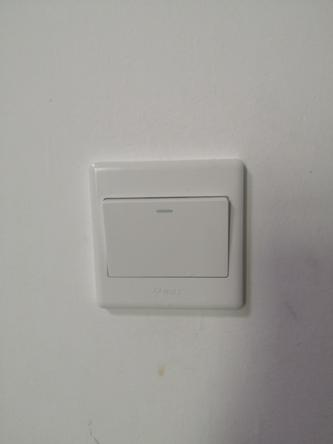switch: (101, 189, 234, 288)
